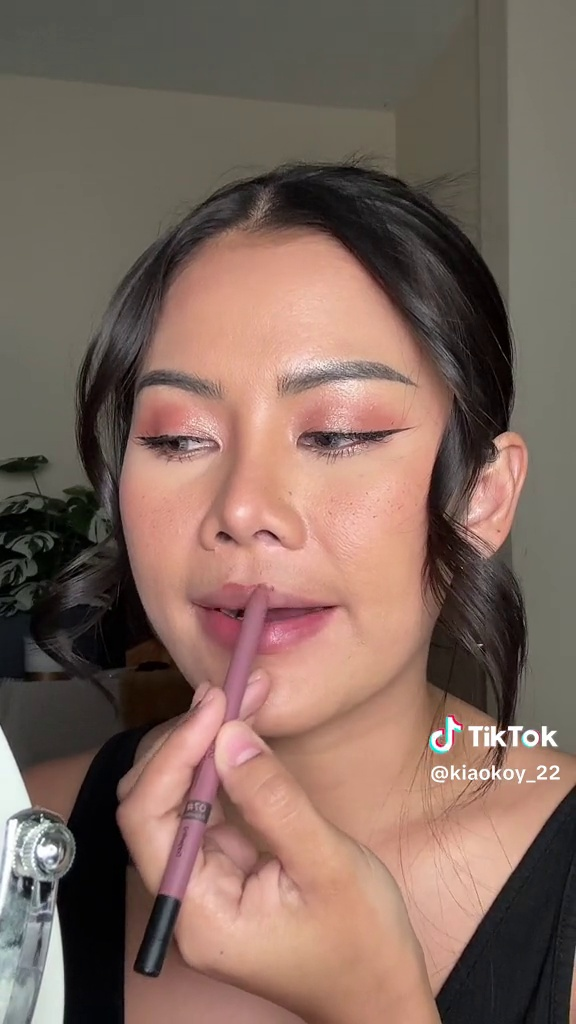train' :'yolo_data/train/images',: (128, 577, 279, 986)
